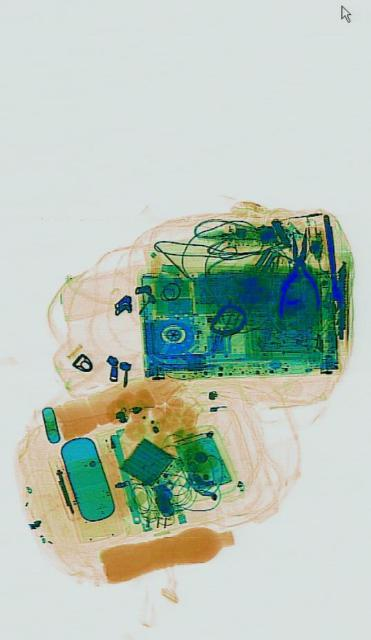Pliers: (274, 226, 320, 322)
